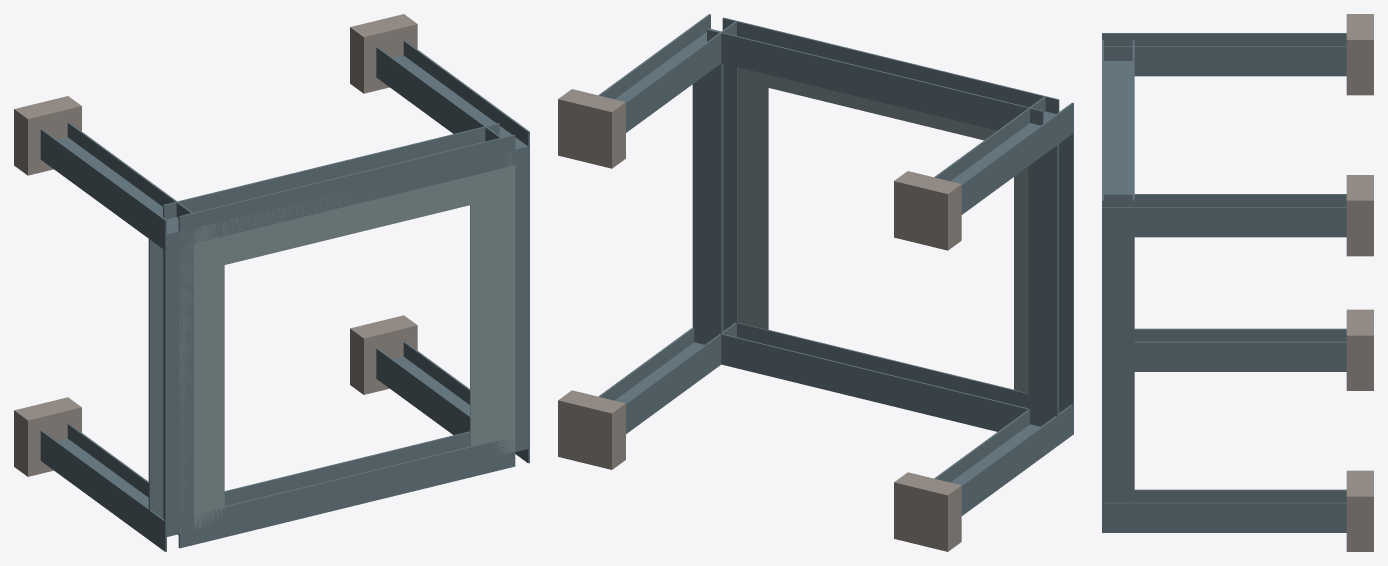
3 renders of one model, left to right at view 1: azimuth 30°, elevation 25°; view 2: azimuth 150°, elevation 25°; view 3: azimuth 270°, elevation 25°, orthographic.
Visible parts, largest first — view 1: 钢平台_6mm花纹钢板, 钢架_GL1横梁翼缘, 钢架_GZ1柱翼缘, 钢架_GL1纵梁翼缘, 基础_柱脚墩, 钢架_GZ1柱腹板; view 2: 钢架_GL1横梁翼缘, 钢架_GL1纵梁翼缘, 钢架_GZ1柱翼缘, 基础_柱脚墩, 钢平台_6mm花纹钢板, 钢架_GZ1柱腹板, 钢架_GL1纵梁腹板; view 3: 钢架_GZ1柱翼缘, 基础_柱脚墩, 钢架_GL1纵梁腹板, 钢架_GL1横梁腹板, 钢架_GL1纵梁翼缘, 钢架_GL1横梁翼缘.
Boxes of the visible parts, x1,y1,x2,y2 form: 钢平台_6mm花纹钢板: (179, 151, 515, 532); 钢架_GL1横梁翼缘: (163, 123, 515, 548); 钢架_GZ1柱翼缘: (40, 40, 529, 551); 钢架_GL1纵梁翼缘: (148, 147, 529, 536); 基础_柱脚墩: (14, 14, 417, 476); 钢架_GZ1柱腹板: (57, 55, 528, 536); 钢架_GL1横梁翼缘: (707, 17, 1059, 431); 钢架_GL1纵梁翼缘: (692, 63, 1073, 430); 钢架_GZ1柱翼缘: (598, 14, 1073, 515); 基础_柱脚墩: (558, 89, 961, 551); 钢平台_6mm花纹钢板: (737, 67, 1028, 393); 钢架_GZ1柱腹板: (615, 29, 1055, 484); 钢架_GL1纵梁腹板: (722, 63, 1058, 413); 钢架_GZ1柱翼缘: (1102, 33, 1346, 532); 基础_柱脚墩: (1346, 14, 1373, 551); 钢架_GL1纵梁腹板: (1104, 237, 1132, 502); 钢架_GL1横梁腹板: (1104, 61, 1132, 193); 钢架_GL1纵梁翼缘: (1102, 222, 1134, 518); 钢架_GL1横梁翼缘: (1102, 40, 1134, 206).
Bounding box in the file's own units: 3.25 × 2.85 × 2.
